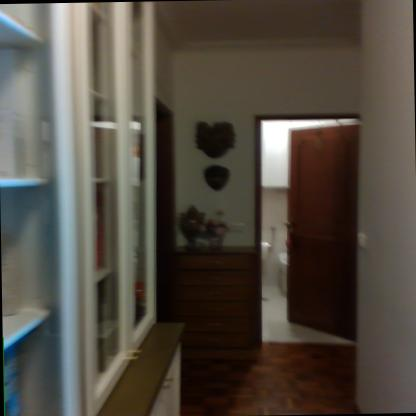semi: (244, 106, 374, 353)
